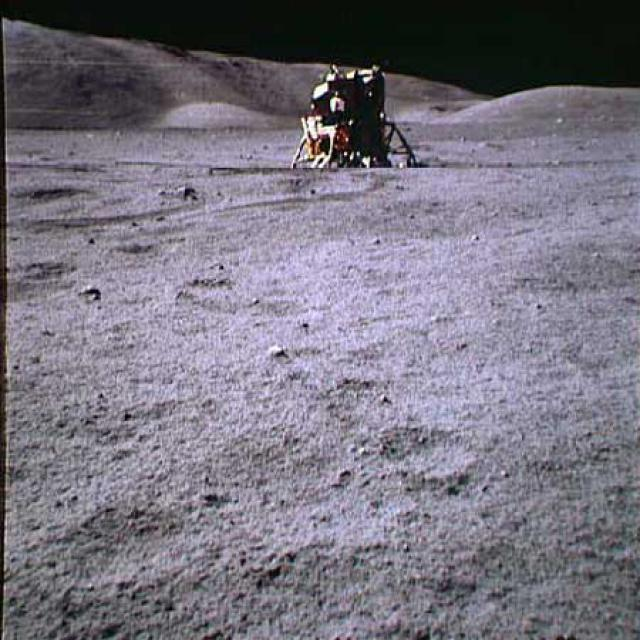artifact: (292, 64, 428, 171)
crater: (118, 233, 192, 263), (16, 188, 88, 205), (27, 262, 76, 278)
rock: (174, 183, 202, 202), (266, 345, 286, 357)
